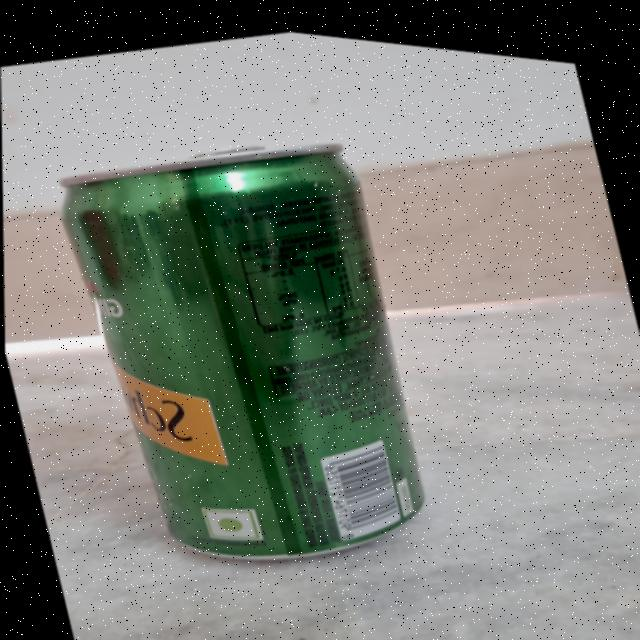Schweppes: (60, 102, 446, 596)
